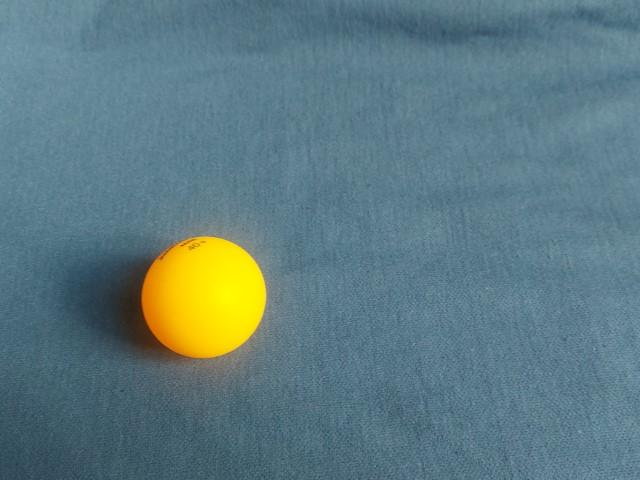oball: (136, 233, 271, 364)
